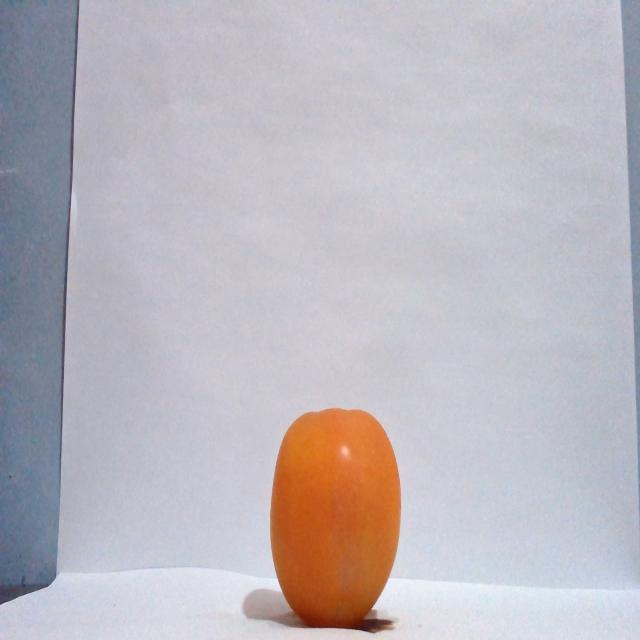Red: (268, 406, 402, 628)
